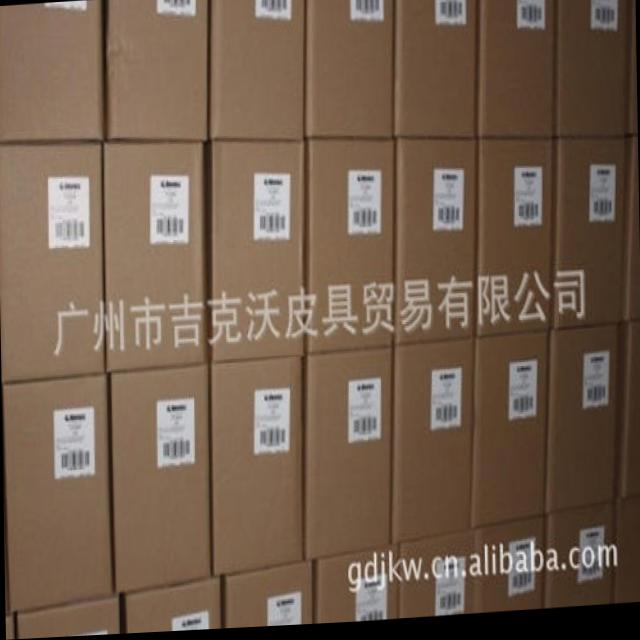box: (2, 376, 114, 614), (0, 140, 103, 382), (107, 364, 212, 597), (104, 142, 207, 374), (204, 141, 306, 362), (208, 357, 304, 579), (303, 352, 393, 564), (307, 140, 394, 355), (392, 138, 476, 350), (390, 341, 474, 548), (474, 141, 554, 343), (471, 335, 549, 532), (104, 0, 207, 142), (0, 2, 103, 142), (544, 331, 620, 520), (549, 142, 623, 335), (208, 0, 304, 142), (303, 0, 394, 142), (393, 0, 478, 141), (475, 0, 555, 141), (554, 0, 627, 142), (543, 506, 612, 612), (475, 520, 544, 618), (313, 547, 399, 625), (398, 533, 475, 620), (221, 564, 314, 631), (125, 579, 221, 635), (613, 329, 640, 504), (17, 596, 121, 639), (619, 142, 639, 330), (615, 504, 640, 610), (628, 11, 636, 142), (5, 616, 14, 640)
